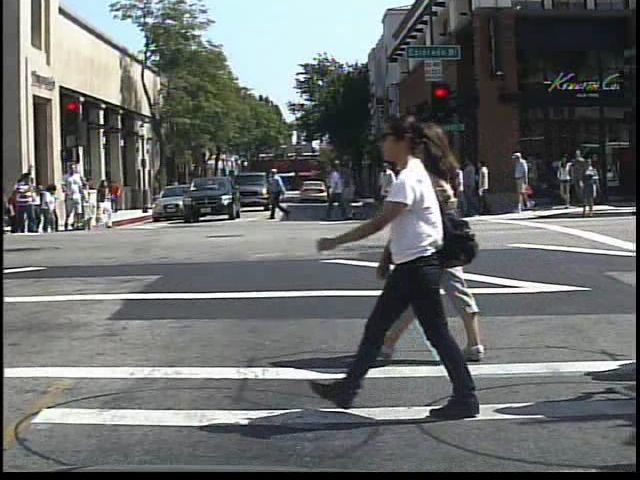person: (318, 109, 484, 421), (396, 118, 495, 362), (58, 161, 89, 232), (12, 165, 38, 235), (511, 145, 535, 212), (109, 178, 126, 214), (166, 173, 184, 205)
